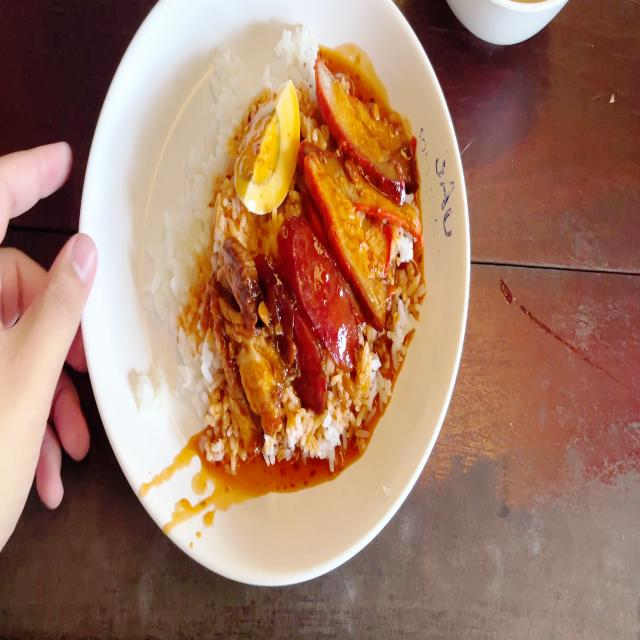boiled_egg: (241, 80, 297, 212)
chainese_sausage: (278, 233, 348, 408)
crispy_pork: (226, 240, 274, 422)
red_pork: (310, 53, 410, 289)
red_pork_and_crispy_pork: (173, 38, 410, 447)
rice: (166, 78, 233, 424), (210, 46, 247, 130)
